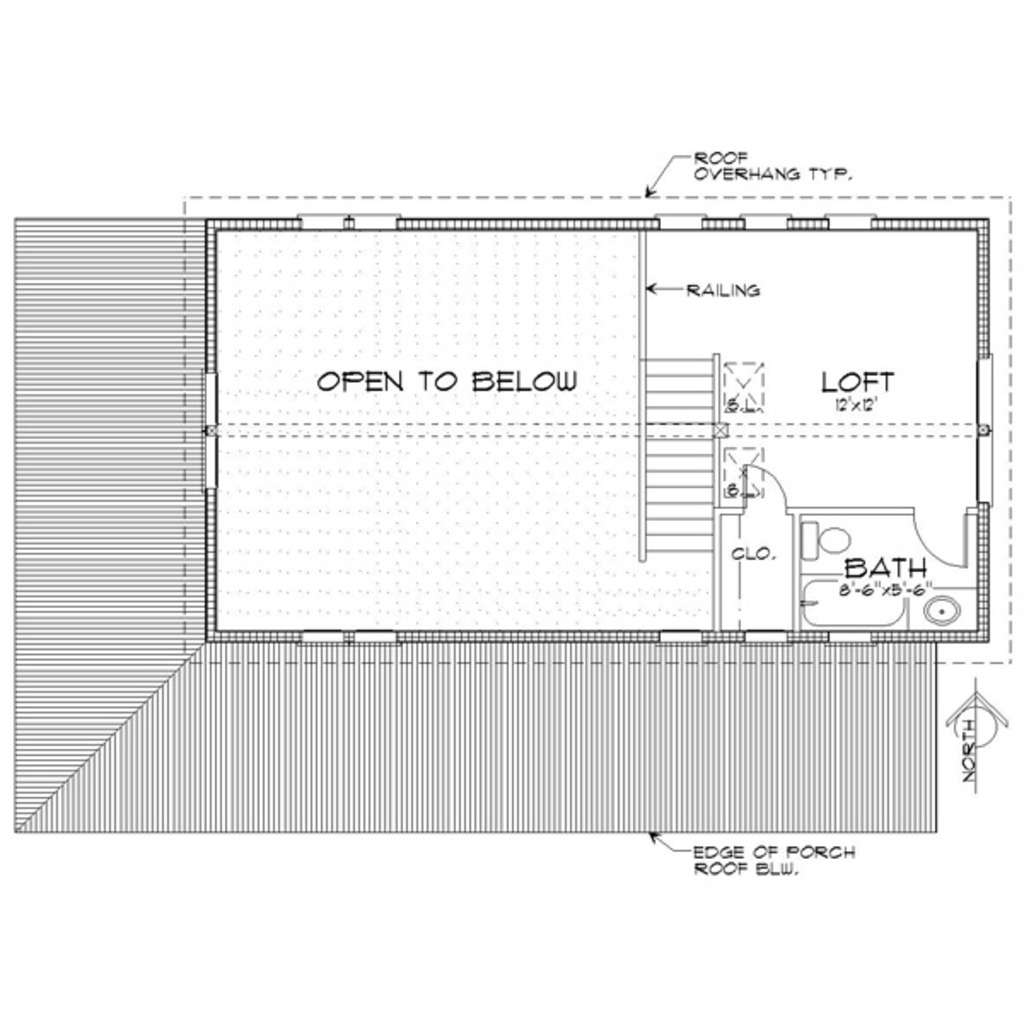door: (913, 510, 970, 576), (721, 463, 790, 512)
large_sink: (794, 514, 854, 573)
small_sink: (909, 584, 979, 633)
stairs: (637, 352, 725, 598)
tub: (793, 574, 910, 637)
window: (976, 351, 1001, 508), (294, 624, 405, 655), (203, 370, 225, 495), (295, 210, 403, 235), (737, 205, 792, 243), (652, 206, 709, 240), (653, 626, 713, 652), (824, 211, 879, 238), (744, 626, 791, 651), (827, 632, 882, 652)
